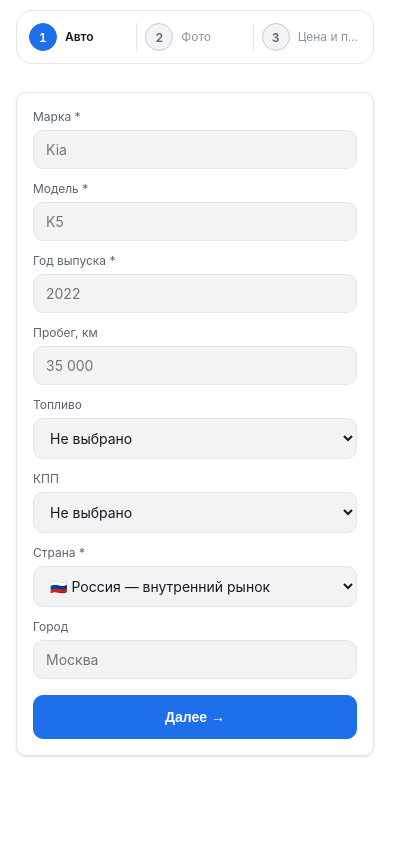
Scenario: SellCar v2: шаги визарда и валидация › пустой шаг 1: ошибки под полями, «Далее» не уходит дальше
(page scrolled)
What coordinates should you click on to do the following:
click the button "Далее →"
I would click on:
 (195, 717)
Its box is [33,695,357,739].
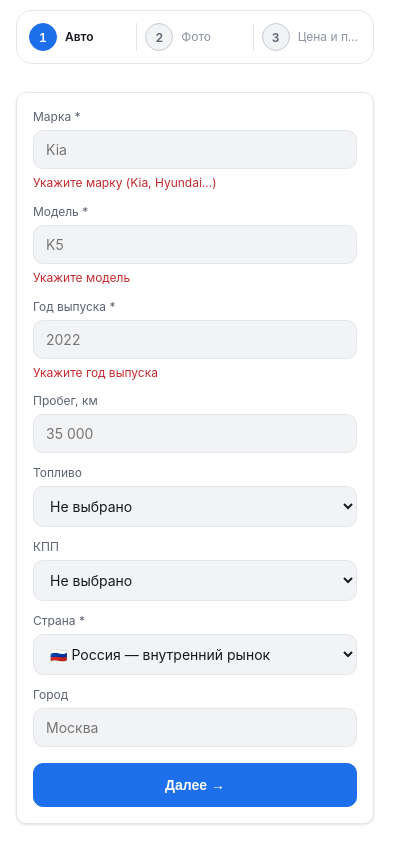
Check: the text "Укажите марку (Kia, Hyundai…)" is shown, box [33,175,217,190]
Check: the text "Укажите модель" is shown, box [33,270,130,285]
Check: the text "Укажите год выпуска" is shown, box [33,365,158,380]
